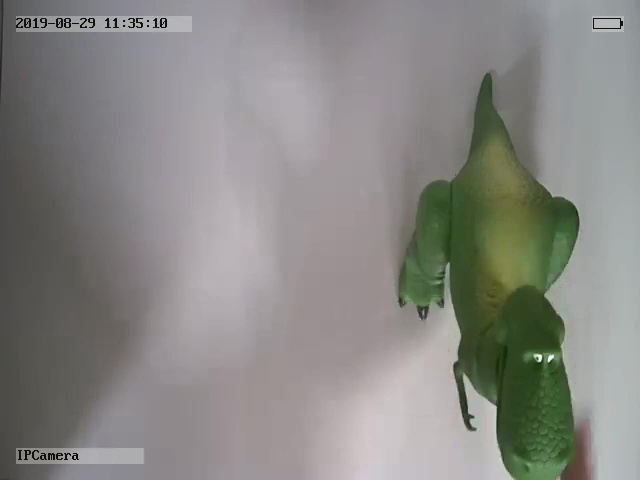rex: (394, 70, 581, 480)
